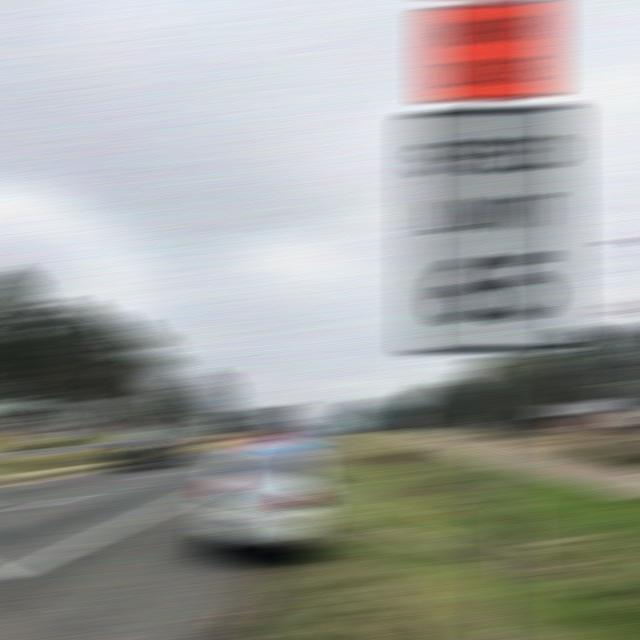speedLimit65: (416, 124, 562, 330)
